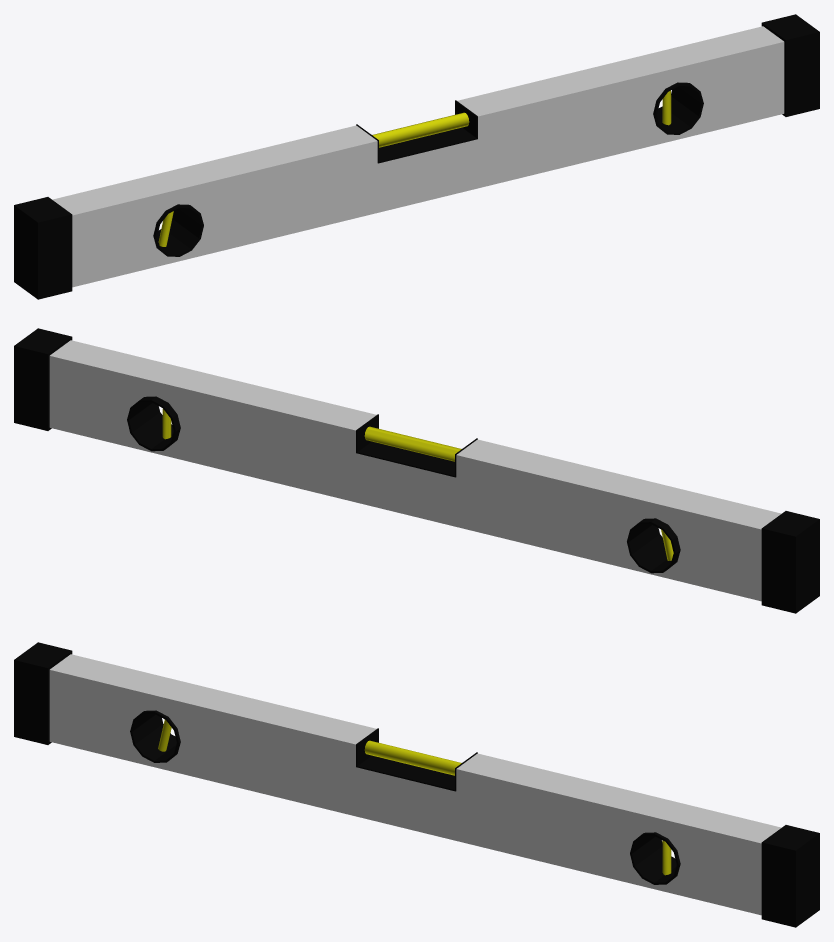
File: 水平尺.FBX
The picture shows the model from 3 angles, top to bottom: view 1: azimuth 30°, elevation 25°; view 2: azimuth 150°, elevation 25°; view 3: azimuth 330°, elevation 25°; orthographic projection.
Visible parts, largest first — view 1: JJ_shuipingchi; view 2: JJ_shuipingchi; view 3: JJ_shuipingchi.
Part boxes in pixels (x1,y1,x2,y2): JJ_shuipingchi: (14,14,819,299); JJ_shuipingchi: (14,328,819,613); JJ_shuipingchi: (14,642,819,927).
Bounding box in the file's own units: 58.51 × 5.5 × 3.66.
